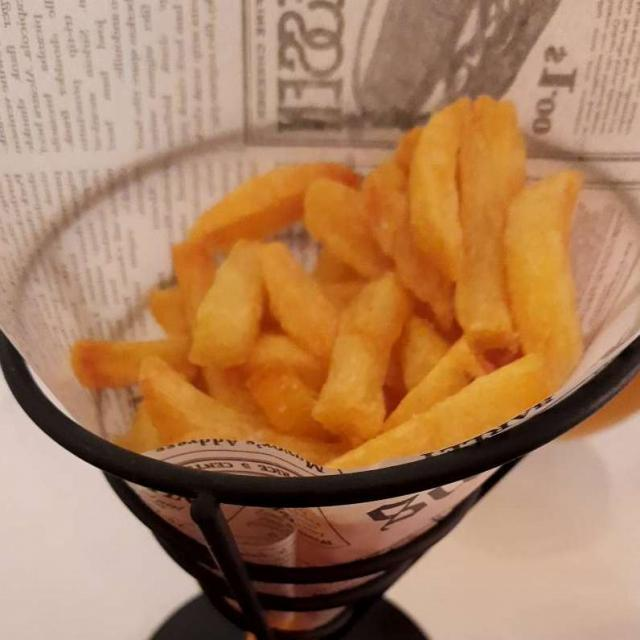chips-french-fries: (90, 107, 578, 460)
